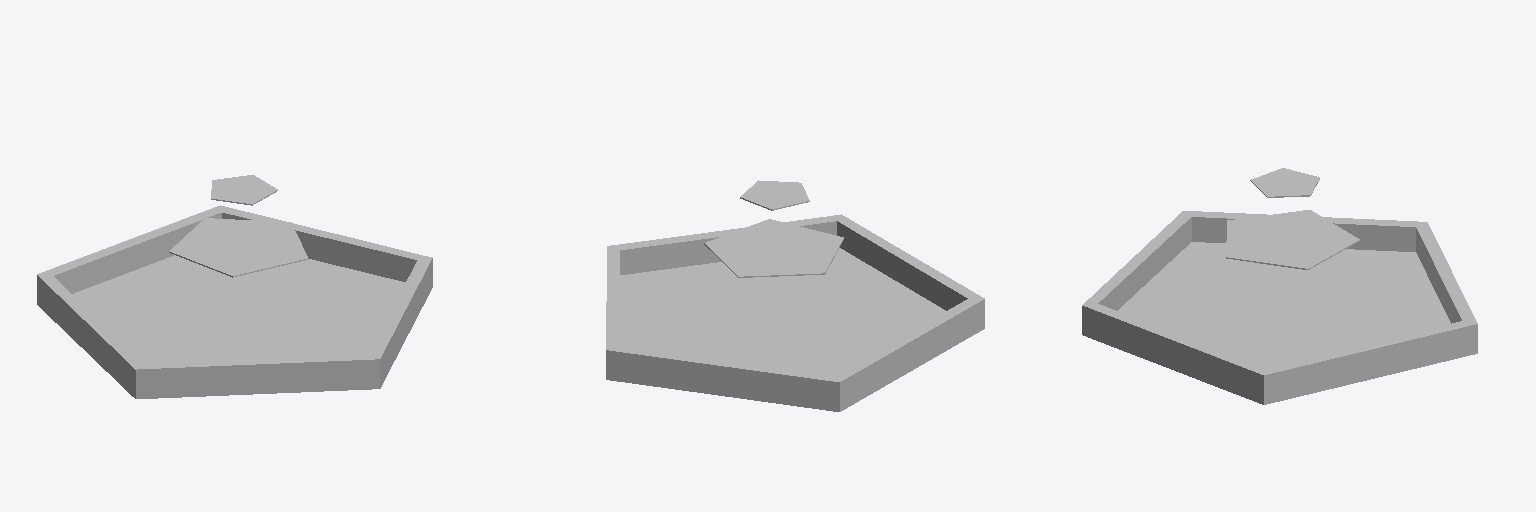
The model's file is fountain_collider.obj.
The picture shows the model from 3 angles: view 1: azimuth 30°, elevation 25°; view 2: azimuth 150°, elevation 25°; view 3: azimuth 270°, elevation 25°; orthographic projection.
Parts seen in each view (by area): view 1: Collider; view 2: Collider; view 3: Collider.
Boxes of the visible parts, x1,y1,x2,y2 form: Collider: [37, 175, 432, 398]; Collider: [606, 180, 984, 411]; Collider: [1082, 168, 1477, 404].
Size of the model in its own units: 2.64 by 1 by 2.68.